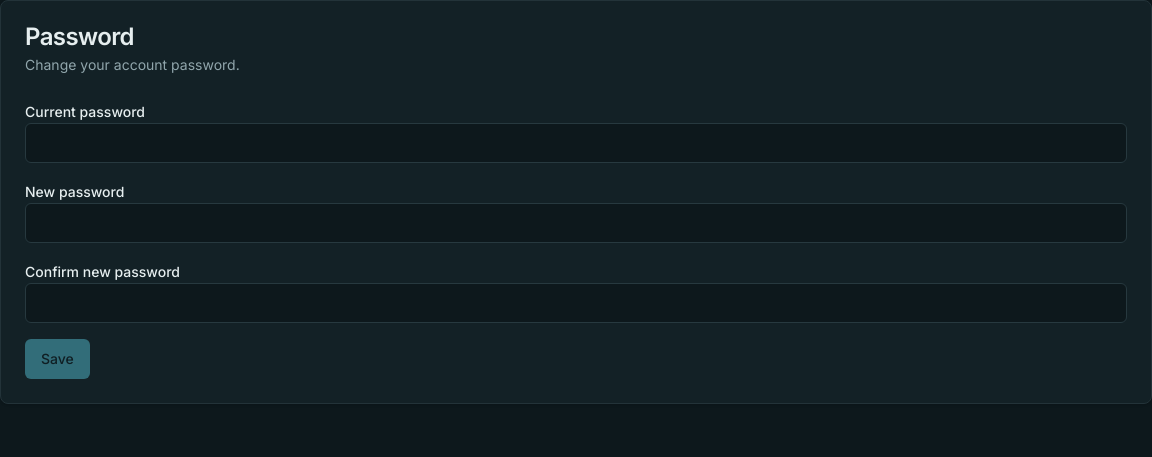
Test: PasswordCard › shows a generic message when the change fails with a non-ApiError
Type "OldPassw0rd!!" into the password field labelled "Current password" at (576, 143), box [25, 123, 1127, 163]
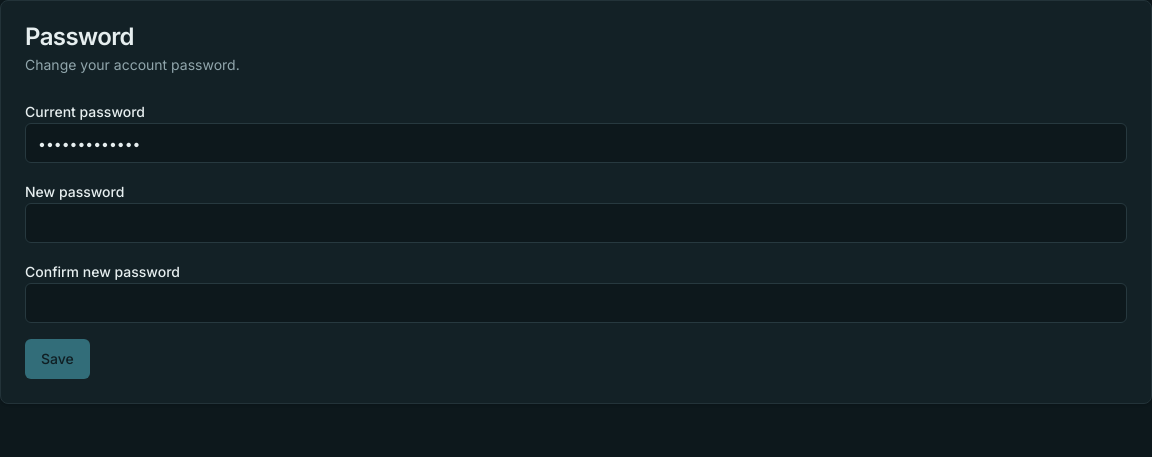
Type "NewPassw0rd!!" into the password field labelled "New password" at (576, 223), box [25, 203, 1127, 243]
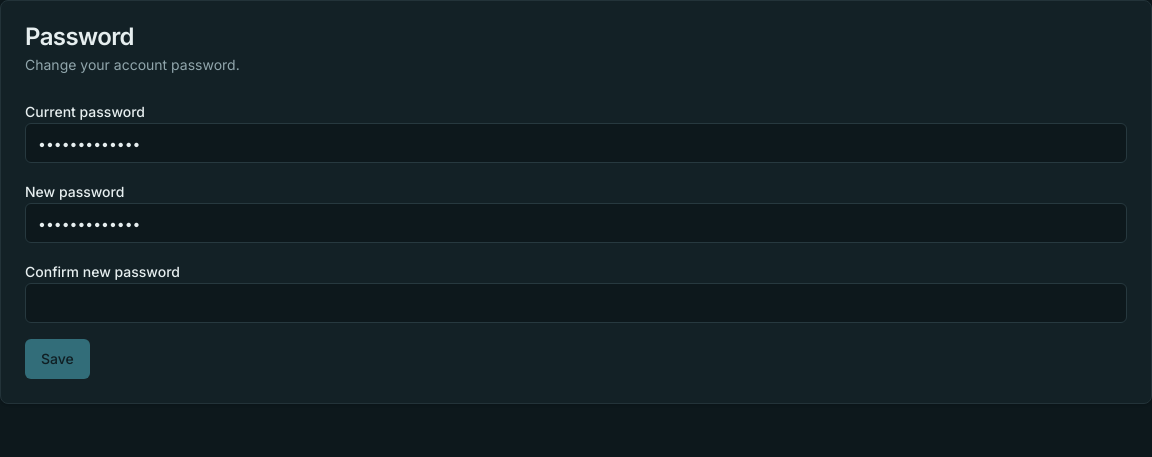
Type "NewPassw0rd!!" into the password field labelled "Confirm new password" at (576, 303), box [25, 283, 1127, 323]
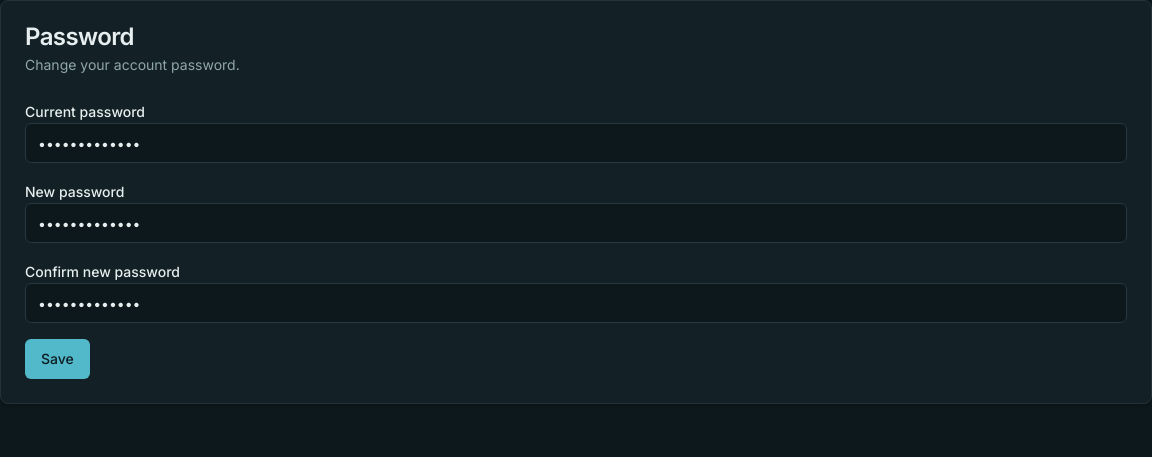
Submit the form named "change password", box [25, 99, 1127, 379]
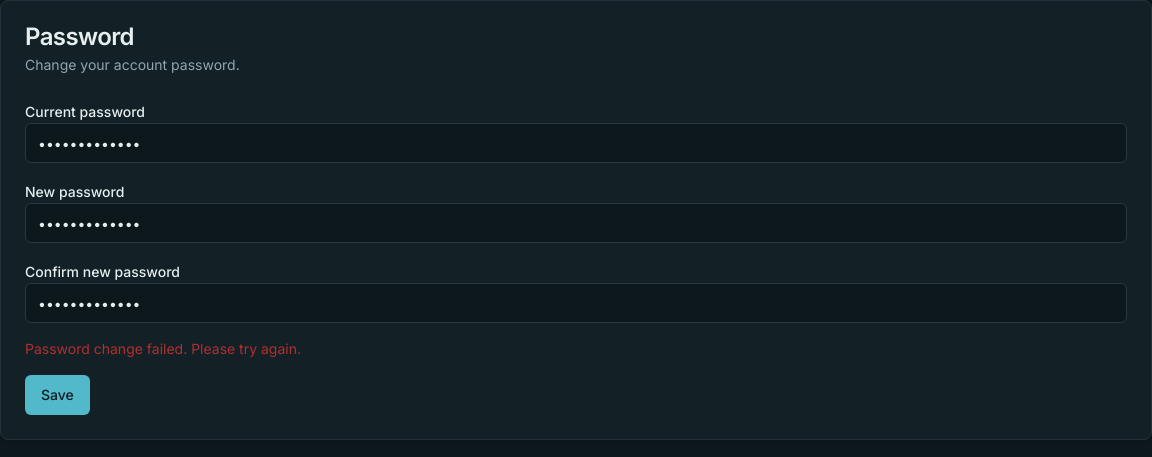
Expected: the message shows "Password change failed", [25, 340, 301, 357]
